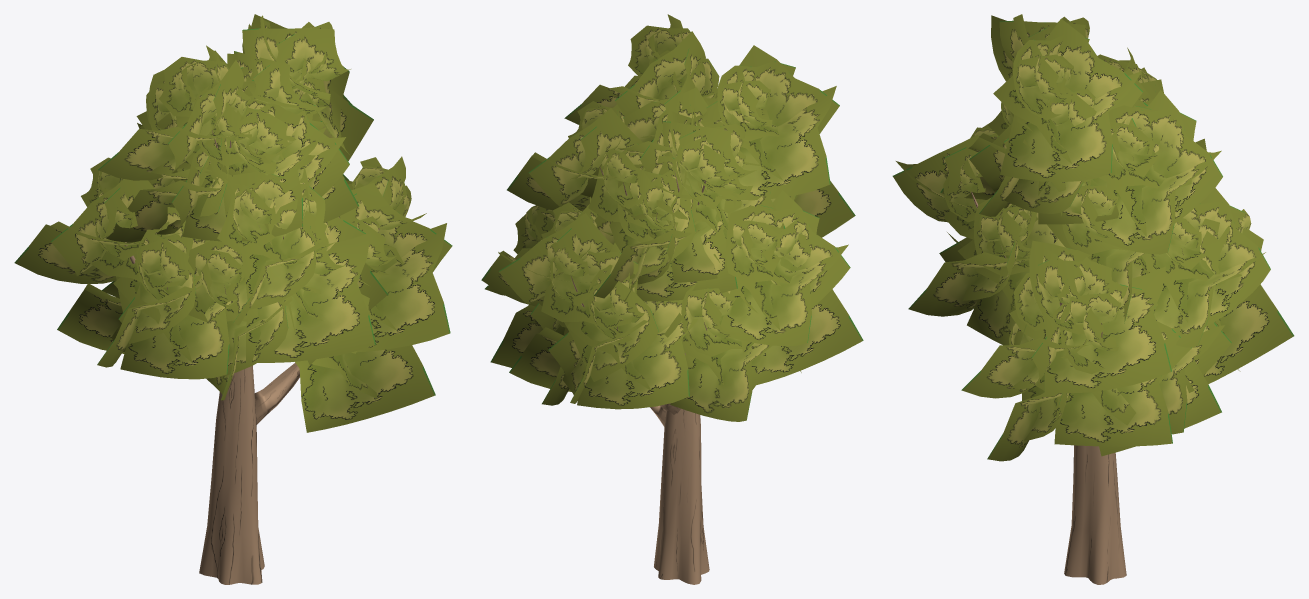
Rendered from tree_b.fbx.
The picture shows the model from 3 angles, left to right: view 1: azimuth 30°, elevation 25°; view 2: azimuth 150°, elevation 25°; view 3: azimuth 270°, elevation 25°; orthographic projection. The views are drawn at different scales.
Parts seen in each view (by area): view 1: leafs_bs_06_1, wood_bs_0; view 2: leafs_bs_06_1, wood_bs_0; view 3: leafs_bs_06_1, wood_bs_0.
Boxes of the visible parts, x1=… form: leafs_bs_06_1: x1=14, y1=14, x2=452, y2=432; wood_bs_0: x1=124, y1=83, x2=379, y2=584; leafs_bs_06_1: x1=481, y1=14, x2=863, y2=421; wood_bs_0: x1=570, y1=166, x2=761, y2=584; leafs_bs_06_1: x1=892, y1=14, x2=1294, y2=461; wood_bs_0: x1=971, y1=191, x2=1203, y2=584.
Bounding box in the file's own units: 306 × 454 × 297.
Materials: 2 (2 with a texture image).
